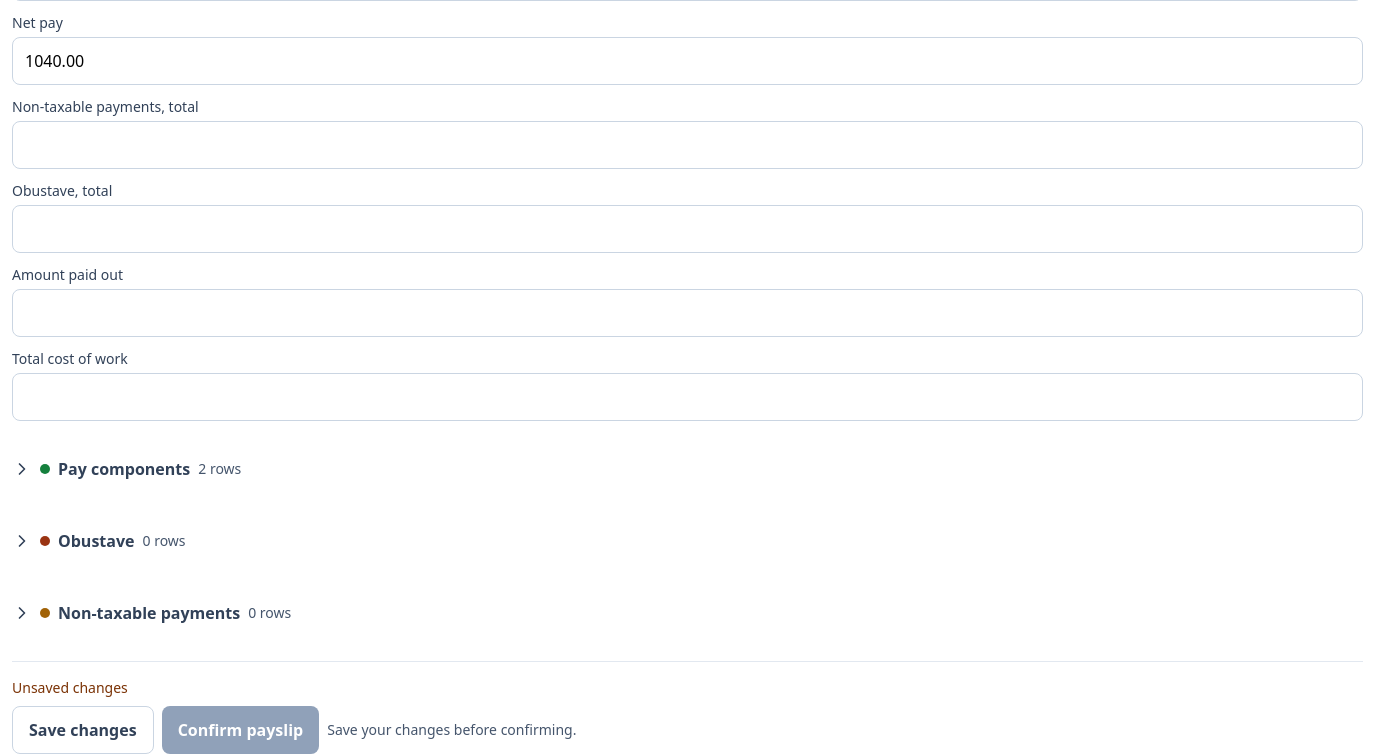
Test: PayslipForm sections (Task 15 D9) › opens a closed table on a failed save and focuses its invalid cell
(page scrolled)
Click the button "Save changes".
click(83, 730)  # box [12,706,154,753]
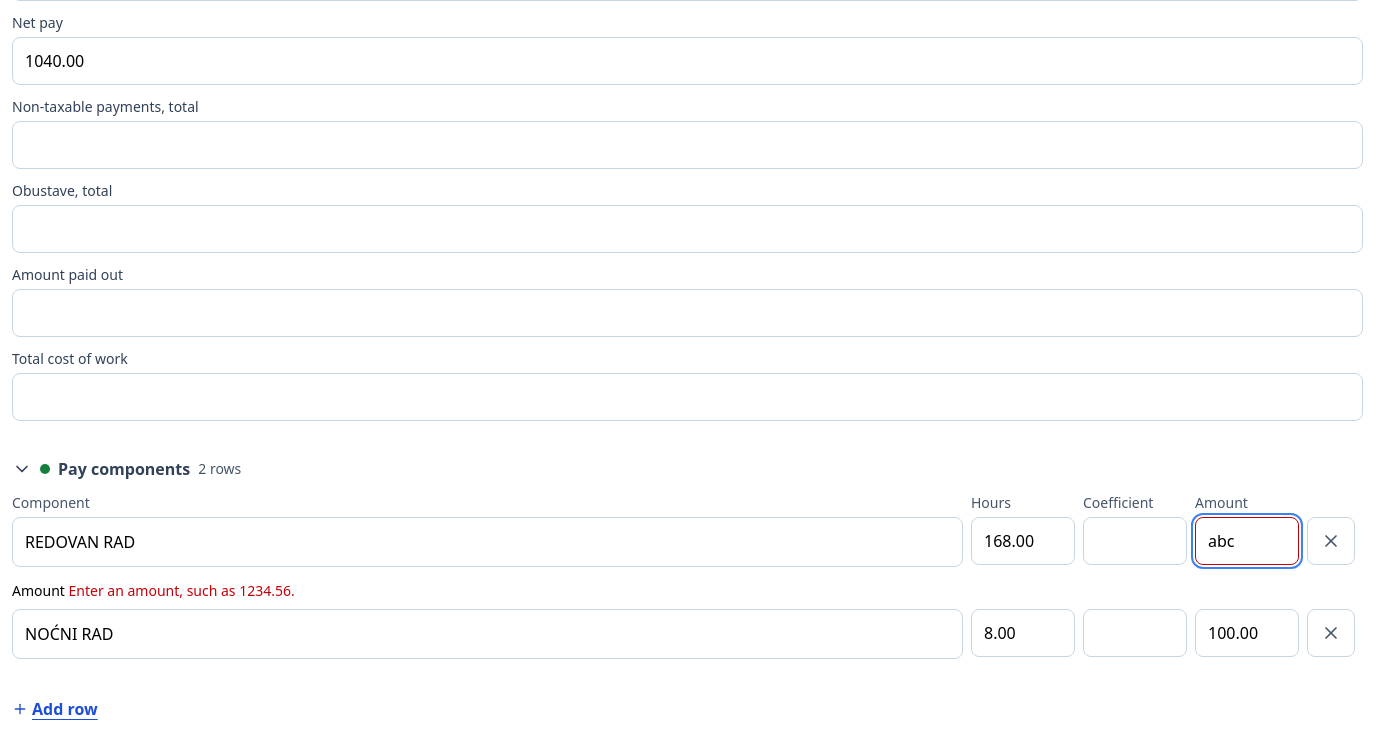
Now the button "Pay components 2 rows" is expanded, box [12,445,241,493]
